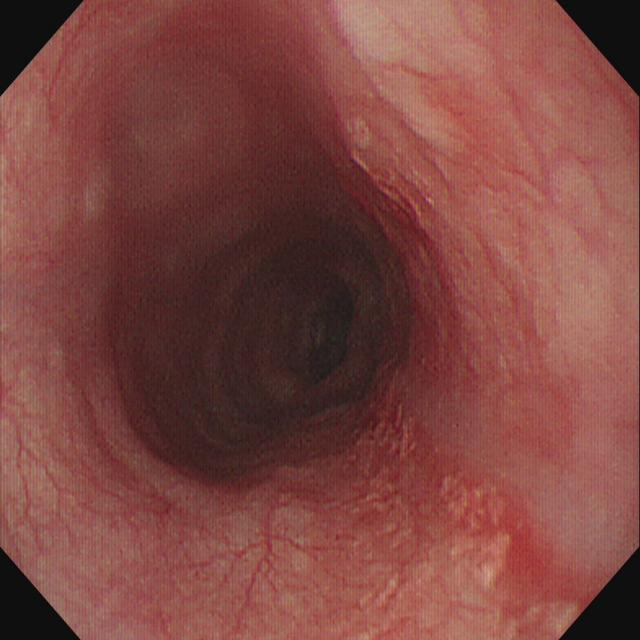E: (294, 292, 357, 368)
J: (358, 406, 421, 618), (440, 476, 513, 591)
